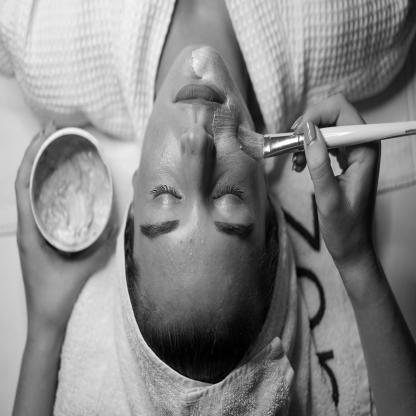Eye: (148, 177, 184, 213), (211, 176, 248, 210)
Mouth: (172, 78, 224, 119)
Nose: (178, 114, 216, 190)
